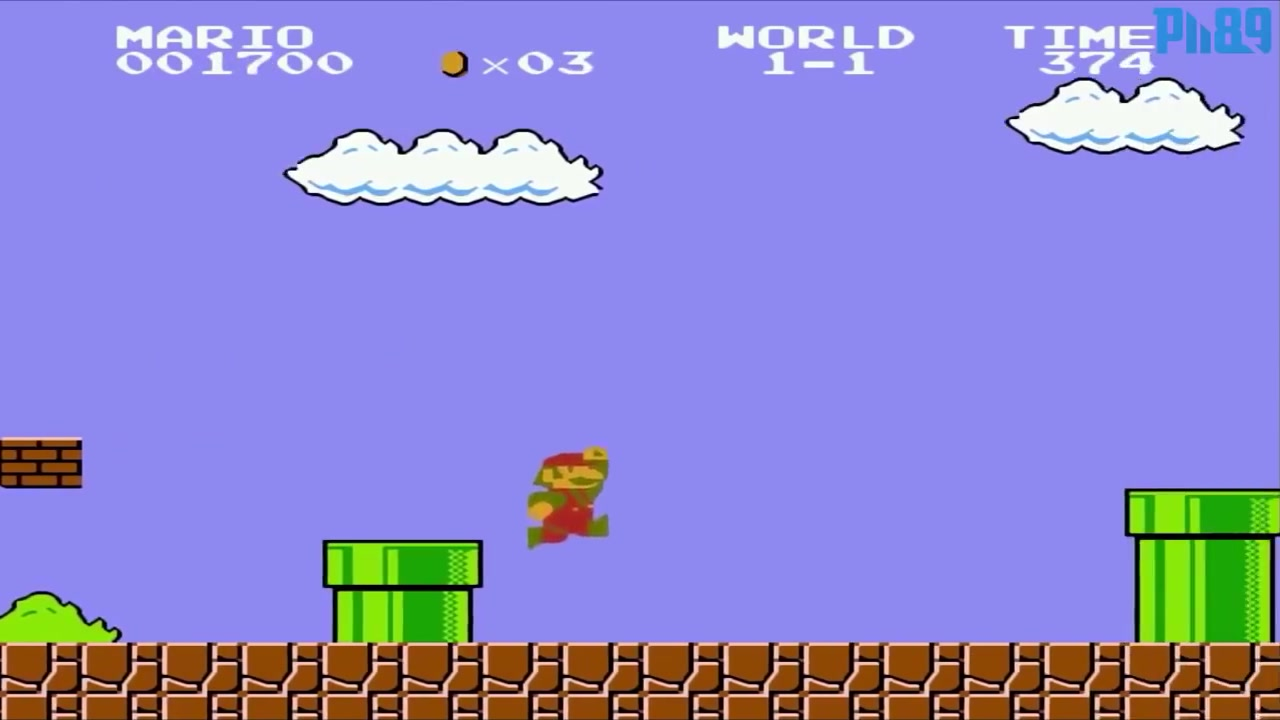mario: (513, 441, 623, 553)
